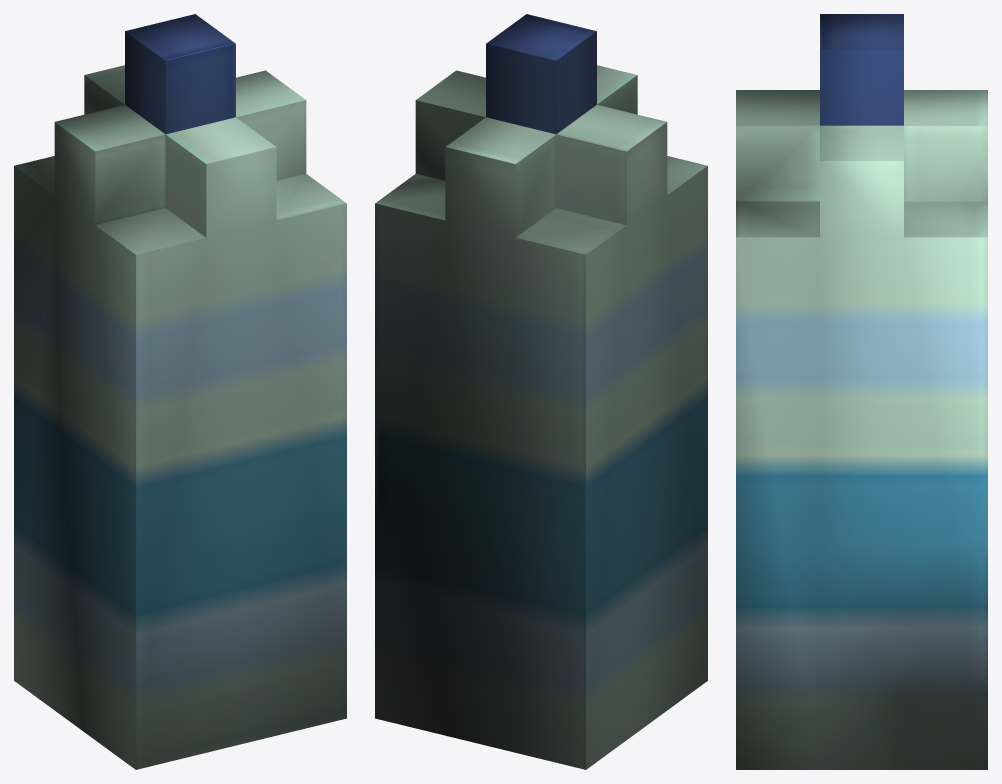
File: water_0_lev1_lev3.glb
The picture shows the model from 3 angles, left to right: view 1: azimuth 30°, elevation 25°; view 2: azimuth 150°, elevation 25°; view 3: azimuth 270°, elevation 25°; orthographic projection. The views are drawn at different scales.
Visible parts, largest first — view 1: water_0_lev1_lev3; view 2: water_0_lev1_lev3; view 3: water_0_lev1_lev3.
Boxes of the visible parts, <box> form: water_0_lev1_lev3: <box>14,14,346,769</box>; water_0_lev1_lev3: <box>375,14,707,769</box>; water_0_lev1_lev3: <box>736,14,987,769</box>.
Bounding box in the file's own units: 0.2242 × 0.6726 × 0.2242.
1 material, 1 textured.
